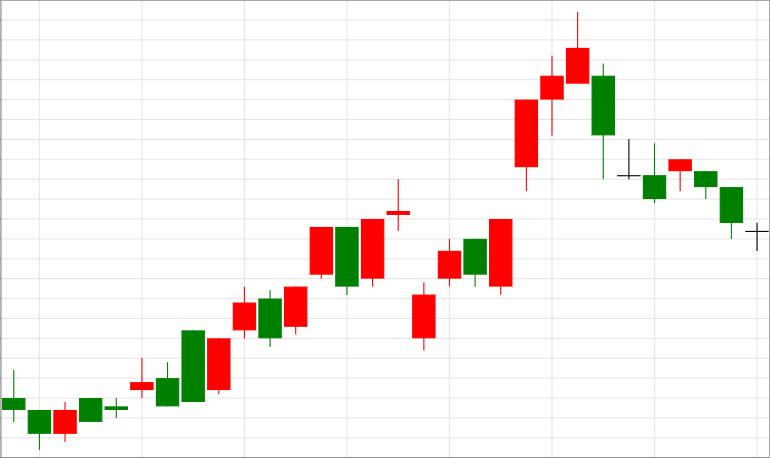bearish_engulfing_fall: (208, 226, 359, 395)
